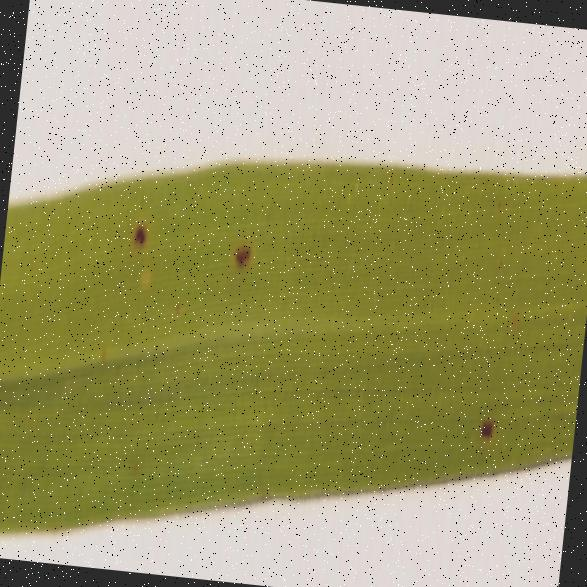Brown_Spot: (222, 222, 260, 290), (467, 385, 500, 449), (126, 201, 152, 261)
